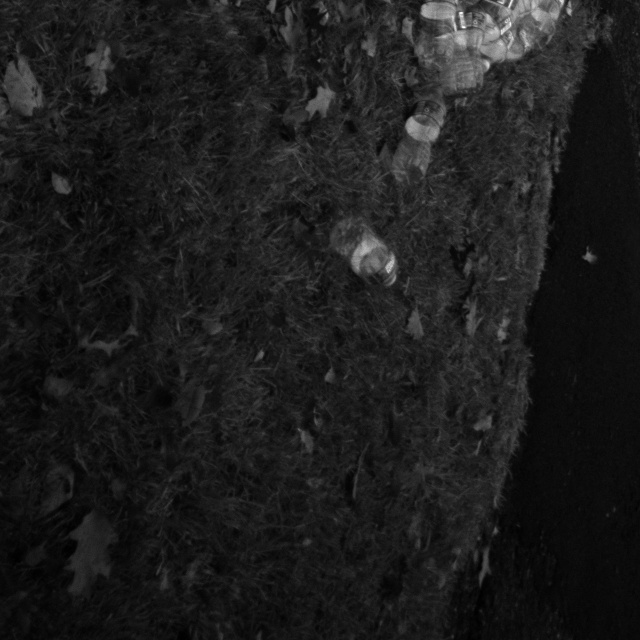bottle: (318, 195, 416, 297), (384, 85, 454, 198), (468, 0, 557, 85), (414, 0, 473, 88), (466, 0, 542, 52)
